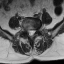CCS_normal: (30, 27, 32, 38)
LFS_stenosis: (35, 26, 38, 33)
LLS_normal: (32, 27, 35, 35)
RFS_severe_stenosis: (25, 26, 28, 34)
RLS_normal: (28, 27, 30, 37)
